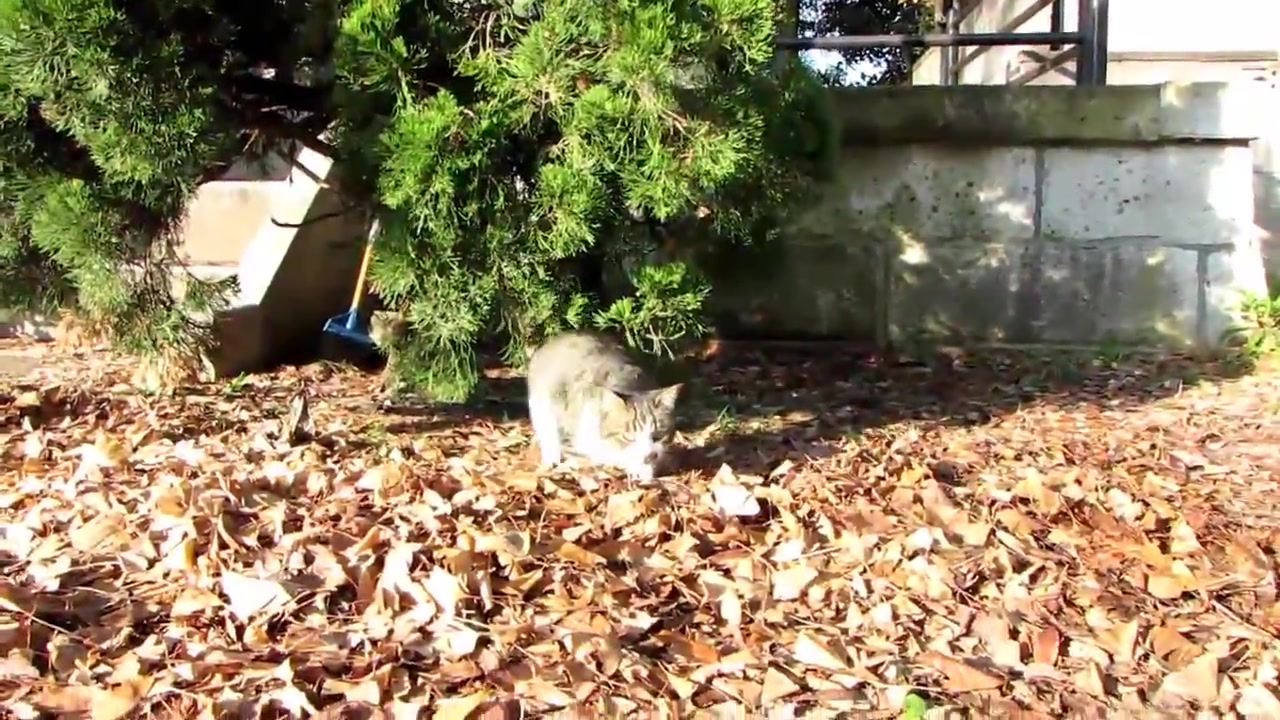cat: (526, 325, 687, 487)
